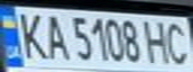0: (103, 16, 124, 63)
1: (87, 14, 106, 62)
5: (66, 12, 90, 62)
8: (121, 16, 145, 64)
A: (39, 10, 69, 61)
C: (160, 18, 193, 66)
H: (142, 17, 175, 65)
K: (12, 8, 48, 61)
